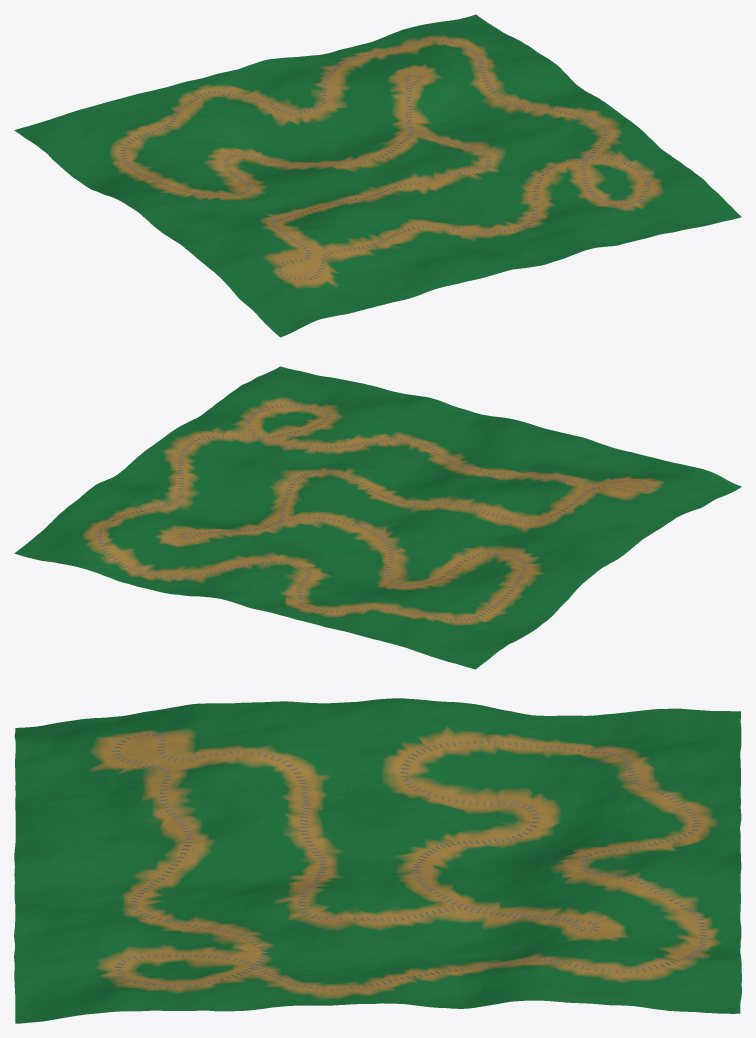
The model's file is Ground newer.glb.
The picture shows the model from 3 angles, top to bottom: view 1: azimuth 30°, elevation 25°; view 2: azimuth 150°, elevation 25°; view 3: azimuth 270°, elevation 25°; orthographic projection. The views are drawn at different scales.
Parts seen in each view (by area): view 1: Ground new.001; view 2: Ground new.001; view 3: Ground new.001.
Boxes of the visible parts, x1=… form: Ground new.001: x1=14, y1=14, x2=741, y2=337; Ground new.001: x1=14, y1=366, x2=741, y2=669; Ground new.001: x1=14, y1=698, x2=741, y2=1023.
Bounding box in the file's own units: 207 × 10.63 × 207.
